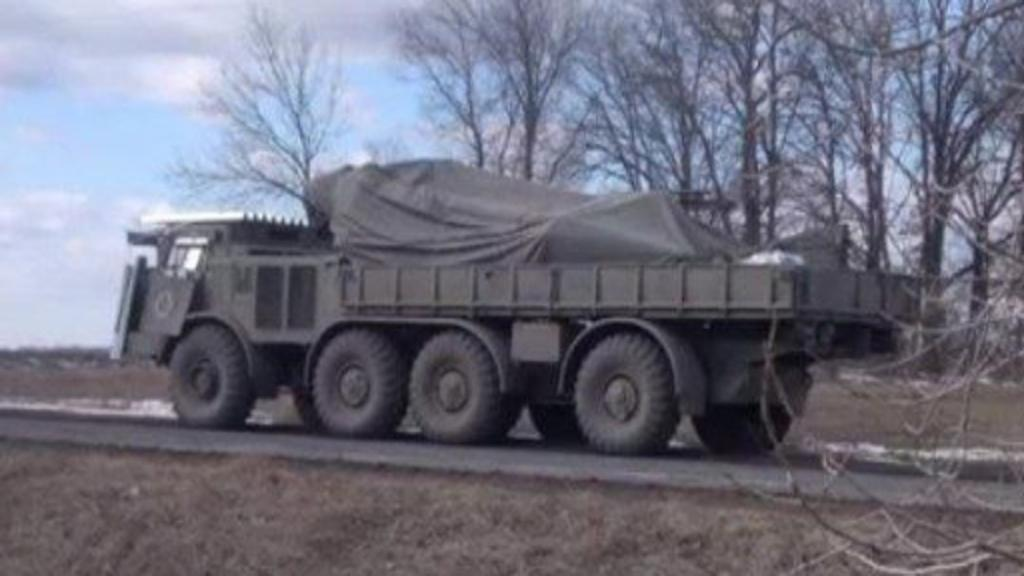TRUCK: (104, 156, 940, 460)
